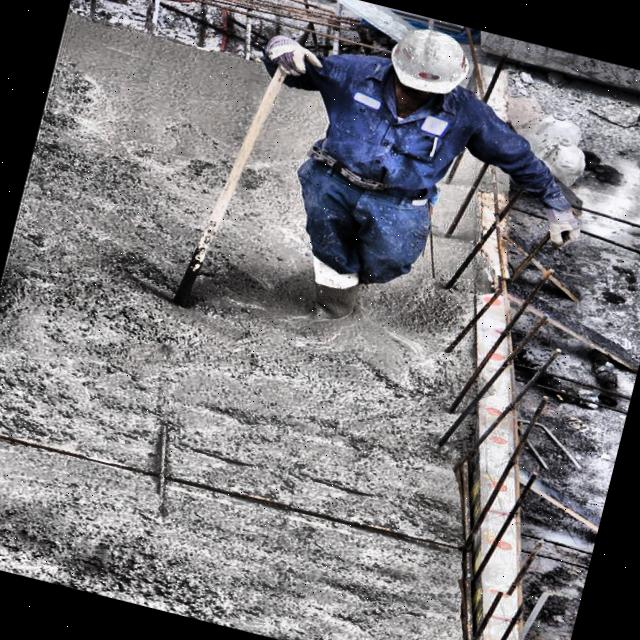helmet: (366, 8, 491, 114)
